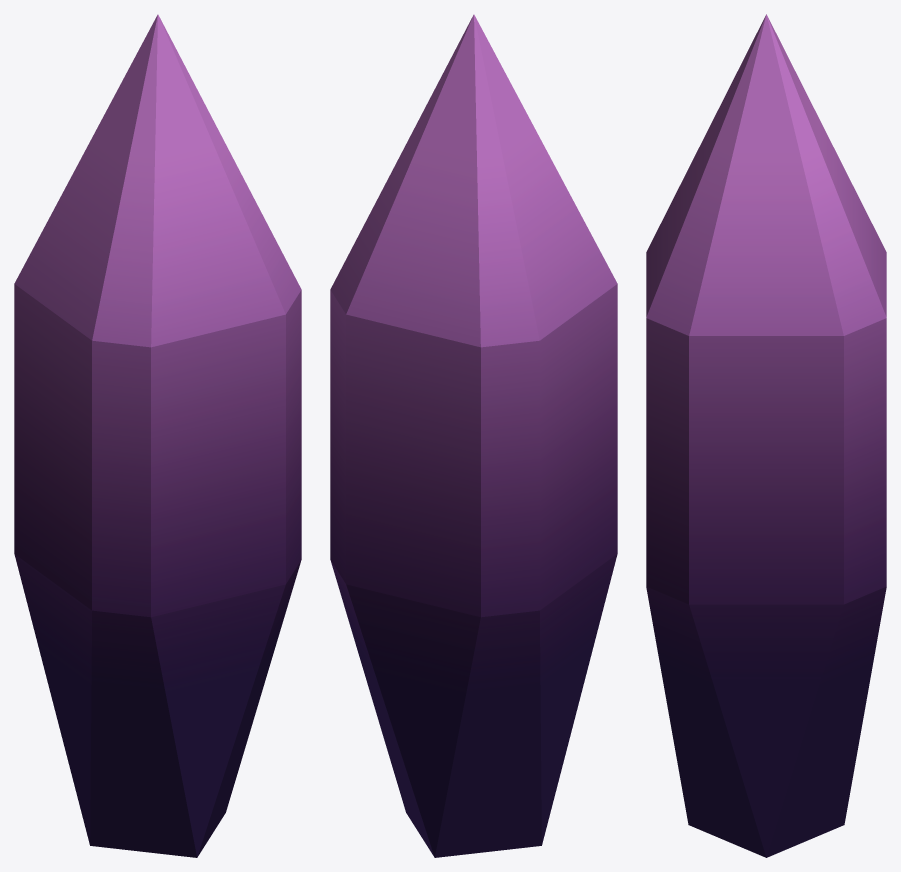
Rendered from Crystal_2.fbx.
3 views of the same model, side by side, from view 1: azimuth 30°, elevation 25°; view 2: azimuth 150°, elevation 25°; view 3: azimuth 270°, elevation 25° (orthographic).
Visible parts, largest first — view 1: Crystal.001; view 2: Crystal.001; view 3: Crystal.001.
Boxes of the visible parts, left/top/right/bottom form: Crystal.001: left=14, top=14, right=301, bottom=857; Crystal.001: left=330, top=14, right=617, bottom=857; Crystal.001: left=646, top=14, right=886, bottom=857.
Bounding box in the file's own units: 8.42 × 31.33 × 8.42.
